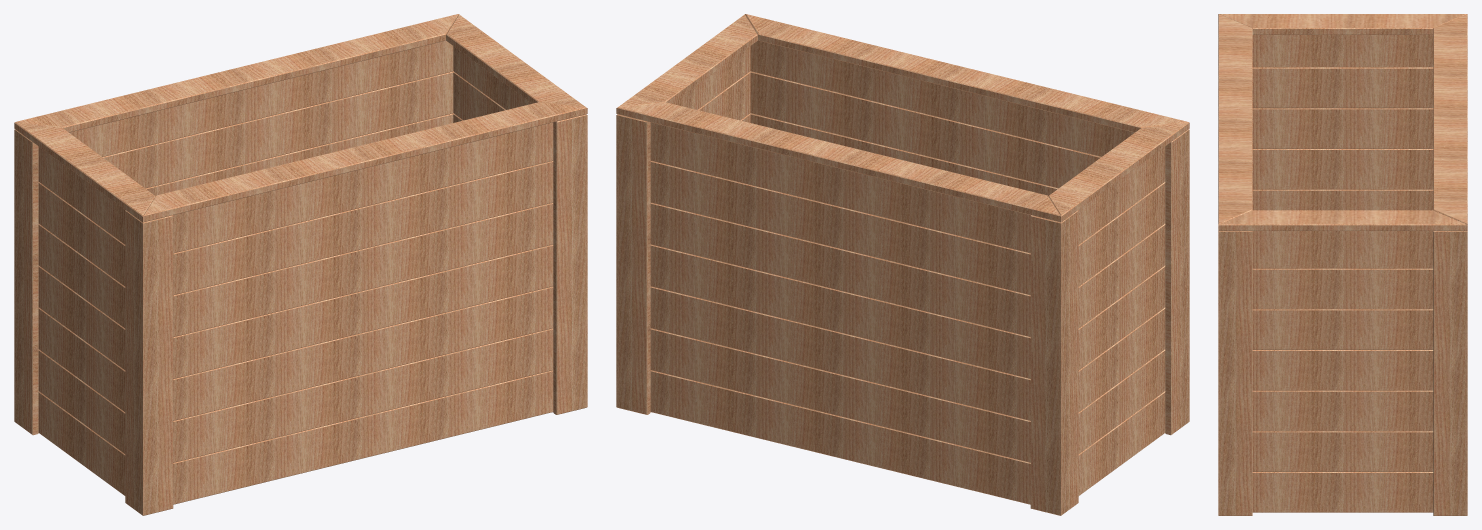
The model's file is hochbeet.glb.
The picture shows the model from 3 angles, left to right: view 1: azimuth 30°, elevation 25°; view 2: azimuth 150°, elevation 25°; view 3: azimuth 270°, elevation 25°; orthographic projection. The views are drawn at different scales.
Parts seen in each view (by area): view 1: Volumenkörper1:12, Volumenkörper1:16, Volumenkörper1:32, Volumenkörper1:20, Volumenkörper1:28, Volumenkörper1:24, Volumenkörper1:36, Volumenkörper1:31, Volumenkörper1:35, Volumenkörper1:8, Volumenkörper1:3, Volumenkörper1:9 (+15 smaller); view 2: Volumenkörper1:11, Volumenkörper1:15, Volumenkörper1:31, Volumenkörper1:19, Volumenkörper1:27, Volumenkörper1:23, Volumenkörper1:35, Volumenkörper1:32, Volumenkörper1:36, Volumenkörper1:9, Volumenkörper1:4, Volumenkörper1:8 (+15 smaller); view 3: Volumenkörper1:2, Volumenkörper1:5, Volumenkörper1:33, Volumenkörper1:18, Volumenkörper1:30, Volumenkörper1:10, Volumenkörper1:14, Volumenkörper1:22, Volumenkörper1:25, Volumenkörper1:26, Volumenkörper1:29, Volumenkörper1:34 (+6 smaller).
Boxes of the visible parts, left/top/right/bottom form: Volumenkörper1:12: left=173, top=370, right=553, bottom=504; Volumenkörper1:16: left=173, top=328, right=553, bottom=462; Volumenkörper1:32: left=173, top=161, right=553, bottom=295; Volumenkörper1:20: left=173, top=286, right=553, bottom=420; Volumenkörper1:28: left=173, top=203, right=553, bottom=336; Volumenkörper1:24: left=173, top=244, right=553, bottom=378; Volumenkörper1:36: left=173, top=122, right=553, bottom=253; Volumenkörper1:31: left=102, top=71, right=453, bottom=188; Volumenkörper1:35: left=69, top=40, right=453, bottom=156; Volumenkörper1:8: left=143, top=102, right=587, bottom=222; Volumenkörper1:3: left=553, top=114, right=587, bottom=414; Volumenkörper1:9: left=14, top=14, right=458, bottom=132; Volumenkörper1:11: left=650, top=370, right=1030, bottom=504; Volumenkörper1:15: left=650, top=328, right=1030, bottom=462; Volumenkörper1:31: left=650, top=161, right=1030, bottom=295; Volumenkörper1:19: left=650, top=286, right=1030, bottom=420; Volumenkörper1:27: left=650, top=203, right=1030, bottom=336; Volumenkörper1:23: left=650, top=244, right=1030, bottom=378; Volumenkörper1:35: left=650, top=122, right=1030, bottom=253; Volumenkörper1:32: left=750, top=71, right=1101, bottom=188; Volumenkörper1:36: left=750, top=40, right=1134, bottom=156; Volumenkörper1:9: left=616, top=102, right=1060, bottom=222; Volumenkörper1:4: left=616, top=114, right=650, bottom=414; Volumenkörper1:8: left=745, top=14, right=1189, bottom=132; Volumenkörper1:2: left=1218, top=231, right=1252, bottom=515; Volumenkörper1:5: left=1433, top=231, right=1467, bottom=515; Volumenkörper1:33: left=1252, top=67, right=1433, bottom=108; Volumenkörper1:18: left=1252, top=390, right=1433, bottom=431; Volumenkörper1:30: left=1252, top=268, right=1433, bottom=309; Volumenkörper1:10: left=1252, top=472, right=1433, bottom=512; Volumenkörper1:14: left=1252, top=431, right=1433, bottom=471; Volumenkörper1:22: left=1252, top=350, right=1433, bottom=390; Volumenkörper1:25: left=1252, top=149, right=1433, bottom=189; Volumenkörper1:26: left=1252, top=309, right=1433, bottom=349; Volumenkörper1:29: left=1252, top=108, right=1433, bottom=148; Volumenkörper1:34: left=1252, top=231, right=1433, bottom=268.
Size of the model in its own units: 1.3 by 0.84 by 0.65.
Materials: 1 (1 with a texture image).
